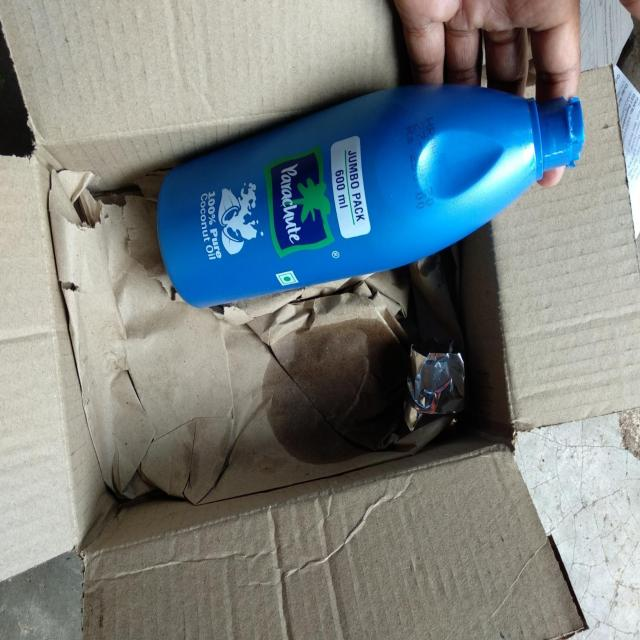parachute_oil: (156, 89, 591, 296)
